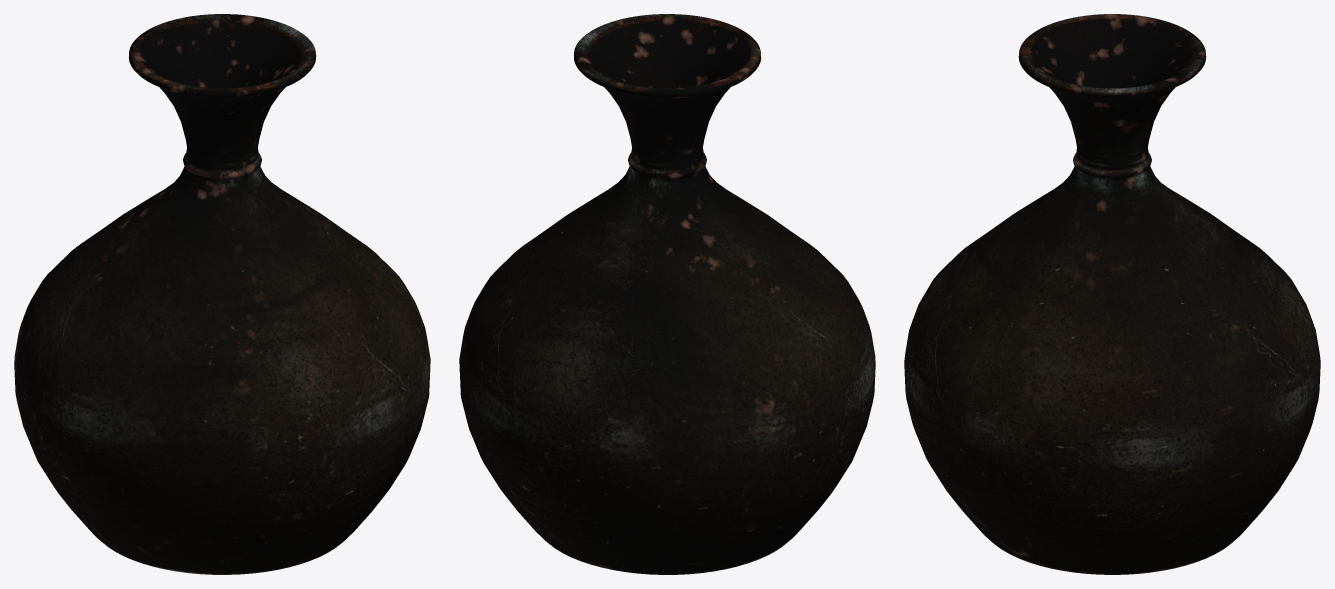
Rendered from SM_DarkBrownBottle.fbx.
The picture shows the model from 3 angles, left to right: view 1: azimuth 30°, elevation 25°; view 2: azimuth 150°, elevation 25°; view 3: azimuth 270°, elevation 25°; orthographic projection.
Visible parts, largest first — view 1: SM_DarkBrownBottle; view 2: SM_DarkBrownBottle; view 3: SM_DarkBrownBottle.
Part boxes in pixels (box(x1,y1,x2,y2)): SM_DarkBrownBottle: box(14, 14, 430, 574); SM_DarkBrownBottle: box(459, 14, 875, 574); SM_DarkBrownBottle: box(904, 14, 1320, 574).
Bounding box in the file's own units: 23.68 × 29.39 × 23.68.
